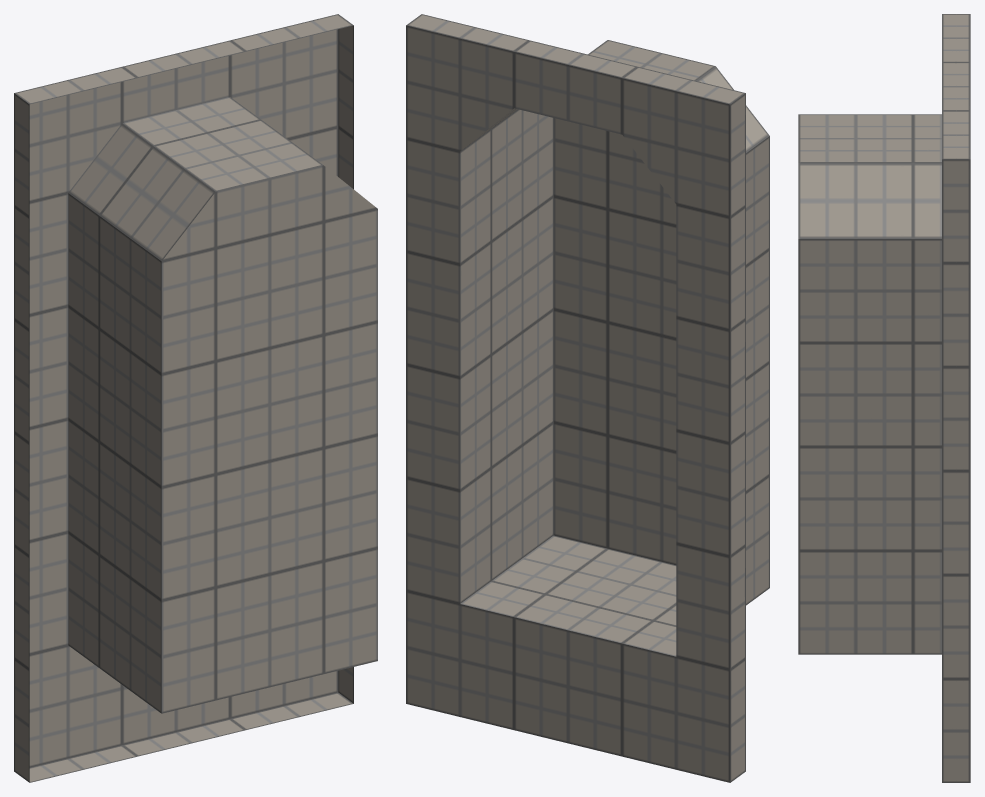
Rendered from LevelPieces.FBX.
3 renders of one model, left to right at view 1: azimuth 30°, elevation 25°; view 2: azimuth 150°, elevation 25°; view 3: azimuth 270°, elevation 25°, orthographic. The views are drawn at different scales.
Visible parts, largest first — view 1: Wall.Recessed; view 2: Wall.Recessed; view 3: Wall.Recessed.
Part boxes in pixels (x1,y1,x2,y2): Wall.Recessed: [14, 14, 377, 782]; Wall.Recessed: [406, 14, 769, 782]; Wall.Recessed: [798, 14, 970, 782].
Bounding box in the file's own units: 3 × 6 × 1.5.
